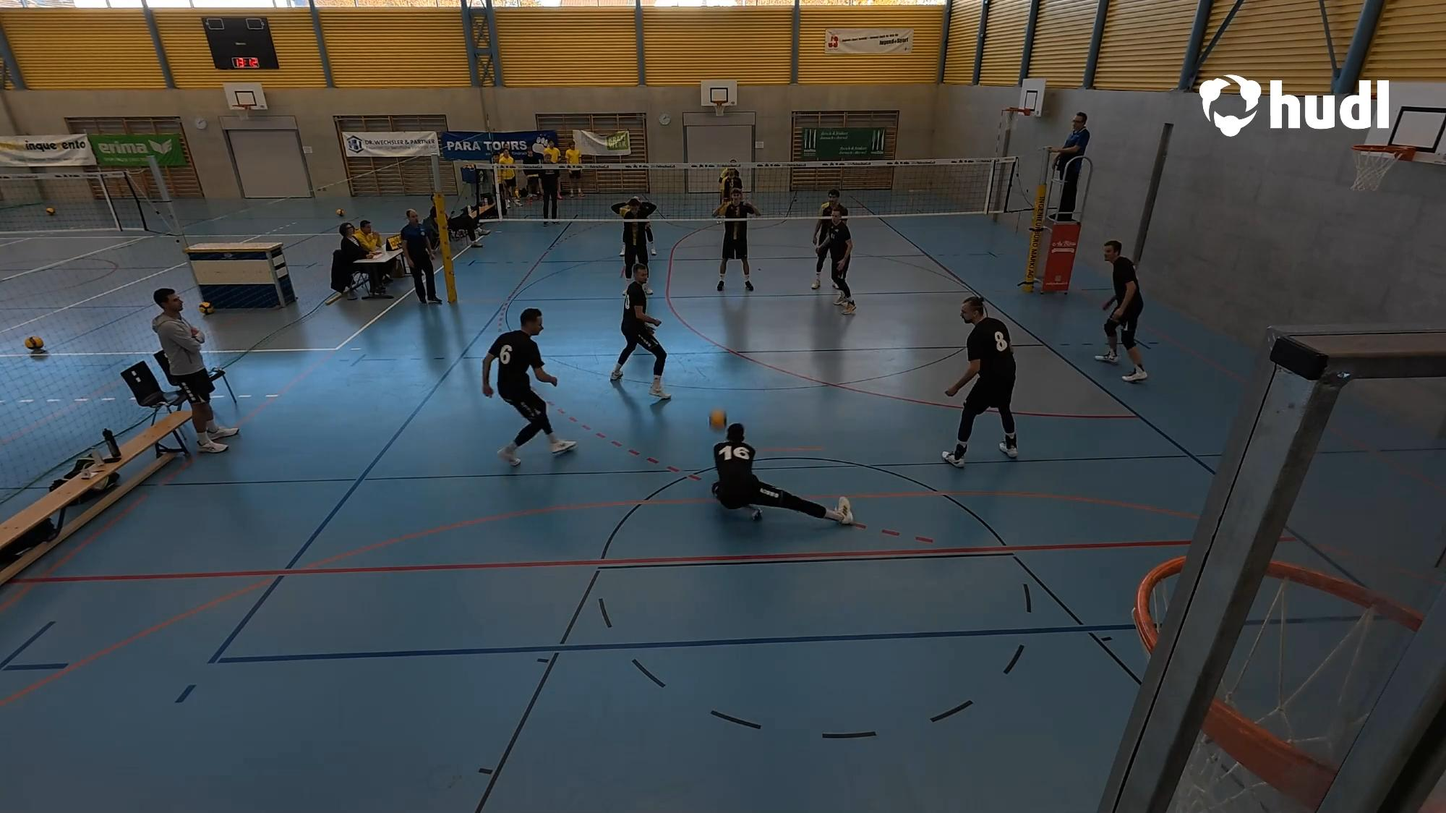Dig: (702, 410, 866, 530)
Player: (487, 308, 574, 472), (939, 297, 1019, 464), (608, 280, 670, 404), (1095, 242, 1149, 383), (715, 190, 758, 295), (809, 197, 854, 291), (818, 215, 859, 315), (615, 204, 657, 295), (713, 166, 739, 219)
ball: (706, 407, 730, 431)
